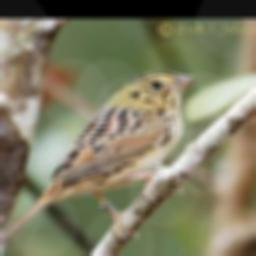Sparrow: (0, 68, 199, 249)
